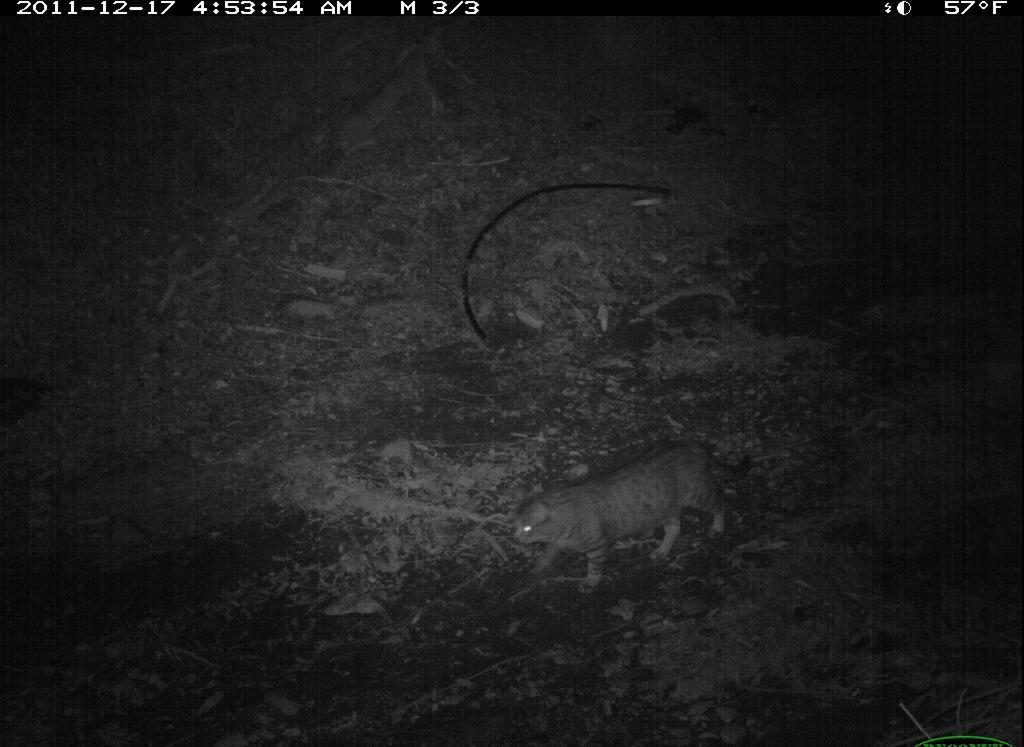cat: (509, 434, 757, 601)
